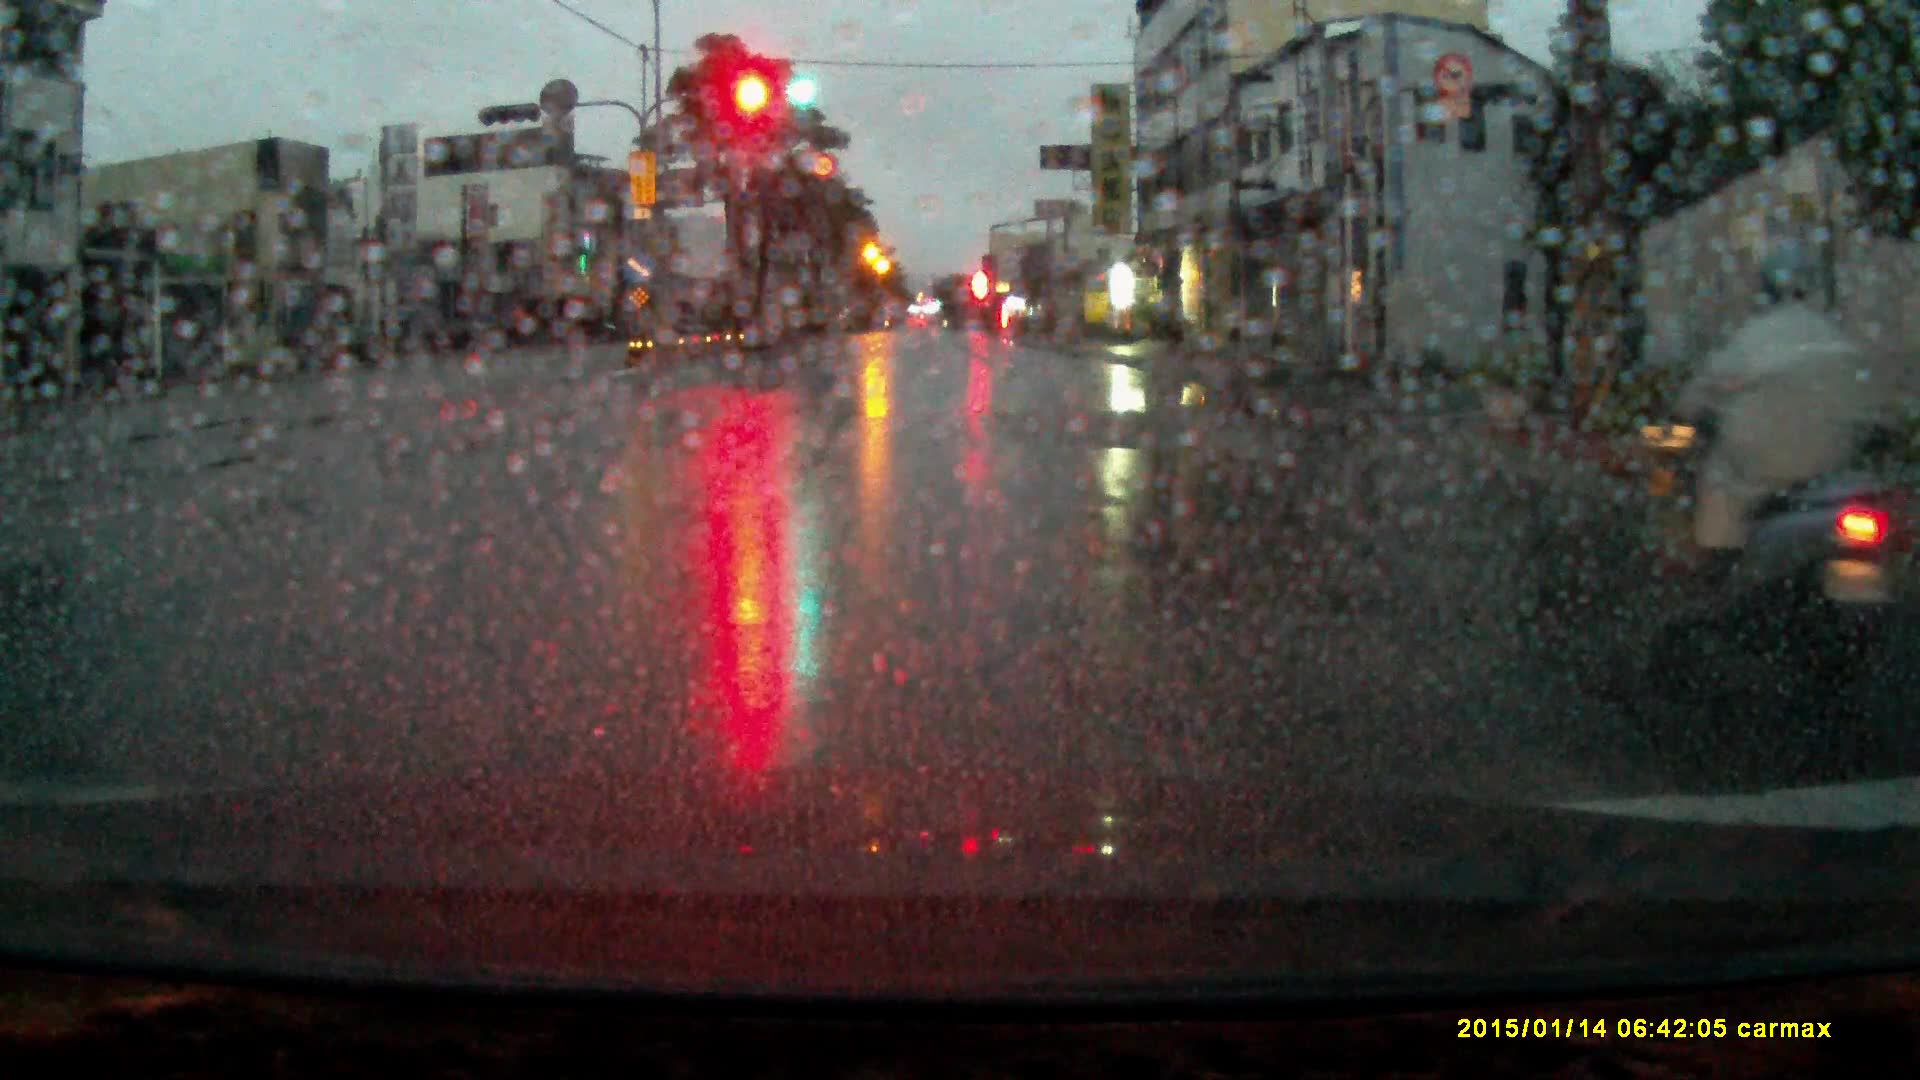rider: (1668, 234, 1910, 750)
